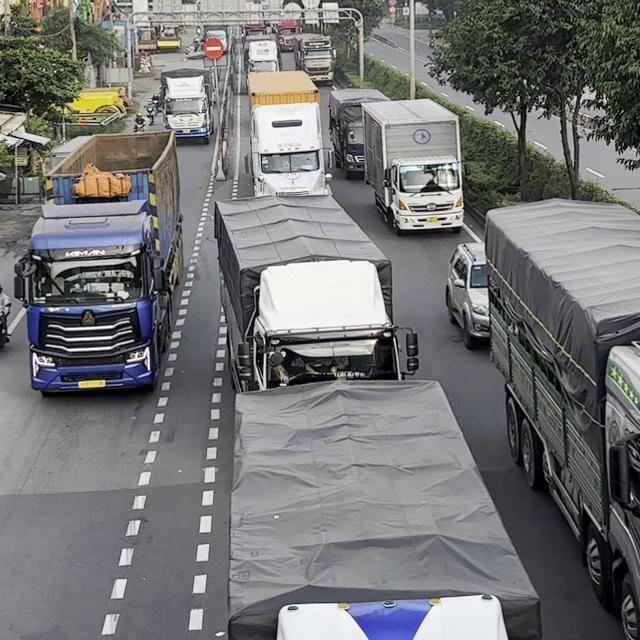car: (444, 241, 490, 349)
motorcycle: (0, 282, 11, 349), (144, 98, 158, 125), (133, 112, 146, 132), (191, 34, 202, 51)
truck: (230, 379, 541, 640), (483, 196, 639, 639), (13, 129, 183, 396), (213, 192, 419, 393), (361, 97, 464, 235), (246, 69, 333, 197), (328, 87, 390, 180), (159, 67, 214, 144), (292, 33, 336, 85), (244, 38, 281, 93), (275, 19, 302, 52), (203, 28, 228, 54)
